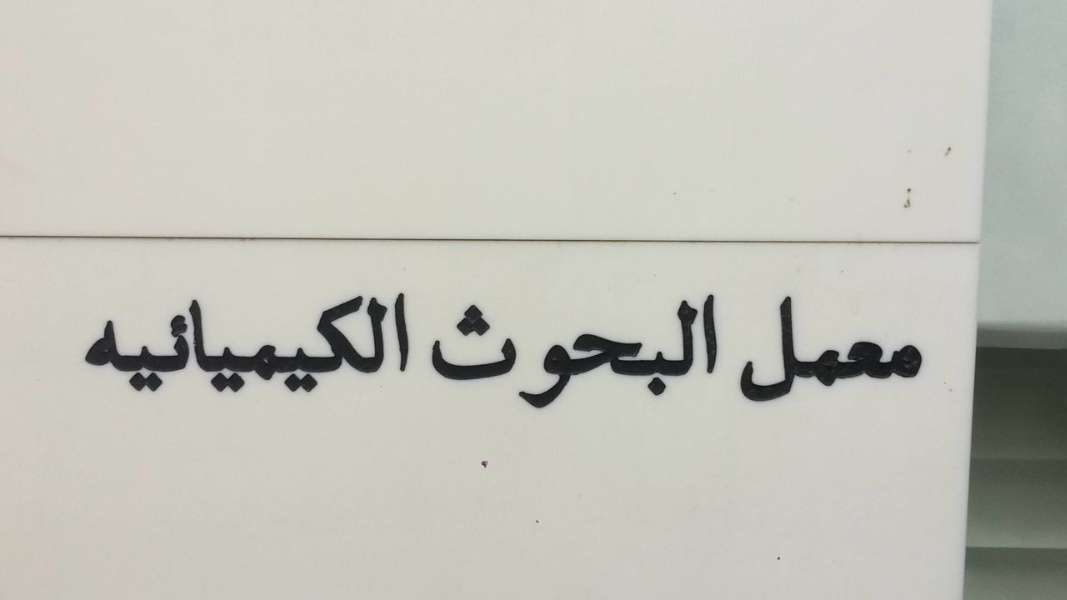text: (433, 291, 448, 416), (449, 291, 464, 416), (465, 291, 480, 416), (481, 291, 496, 416), (497, 291, 512, 416), (513, 291, 528, 416), (529, 291, 544, 416), (545, 291, 560, 416), (561, 291, 576, 416), (577, 291, 592, 416), (593, 291, 608, 416), (609, 291, 624, 416), (625, 291, 640, 416), (641, 291, 656, 416), (657, 291, 672, 416), (673, 291, 688, 416), (689, 291, 704, 416), (705, 291, 720, 416), (753, 291, 768, 404), (769, 291, 784, 404), (785, 291, 800, 404), (801, 291, 816, 404), (817, 291, 832, 404), (833, 291, 848, 404), (849, 291, 864, 404), (865, 291, 880, 404), (881, 291, 896, 404), (897, 291, 912, 404), (913, 291, 927, 404), (97, 291, 112, 396), (113, 291, 128, 396), (129, 291, 144, 396), (145, 291, 160, 396), (161, 291, 176, 396), (177, 291, 192, 396), (193, 291, 208, 396), (209, 291, 224, 396), (225, 291, 240, 396), (241, 291, 256, 396), (257, 291, 272, 396), (273, 291, 288, 396), (289, 291, 304, 396), (305, 291, 320, 396), (321, 291, 336, 396), (337, 291, 352, 396), (353, 291, 368, 396), (369, 291, 384, 396), (385, 291, 400, 396), (85, 291, 96, 396), (401, 291, 412, 396), (430, 291, 432, 416), (721, 291, 722, 416)
